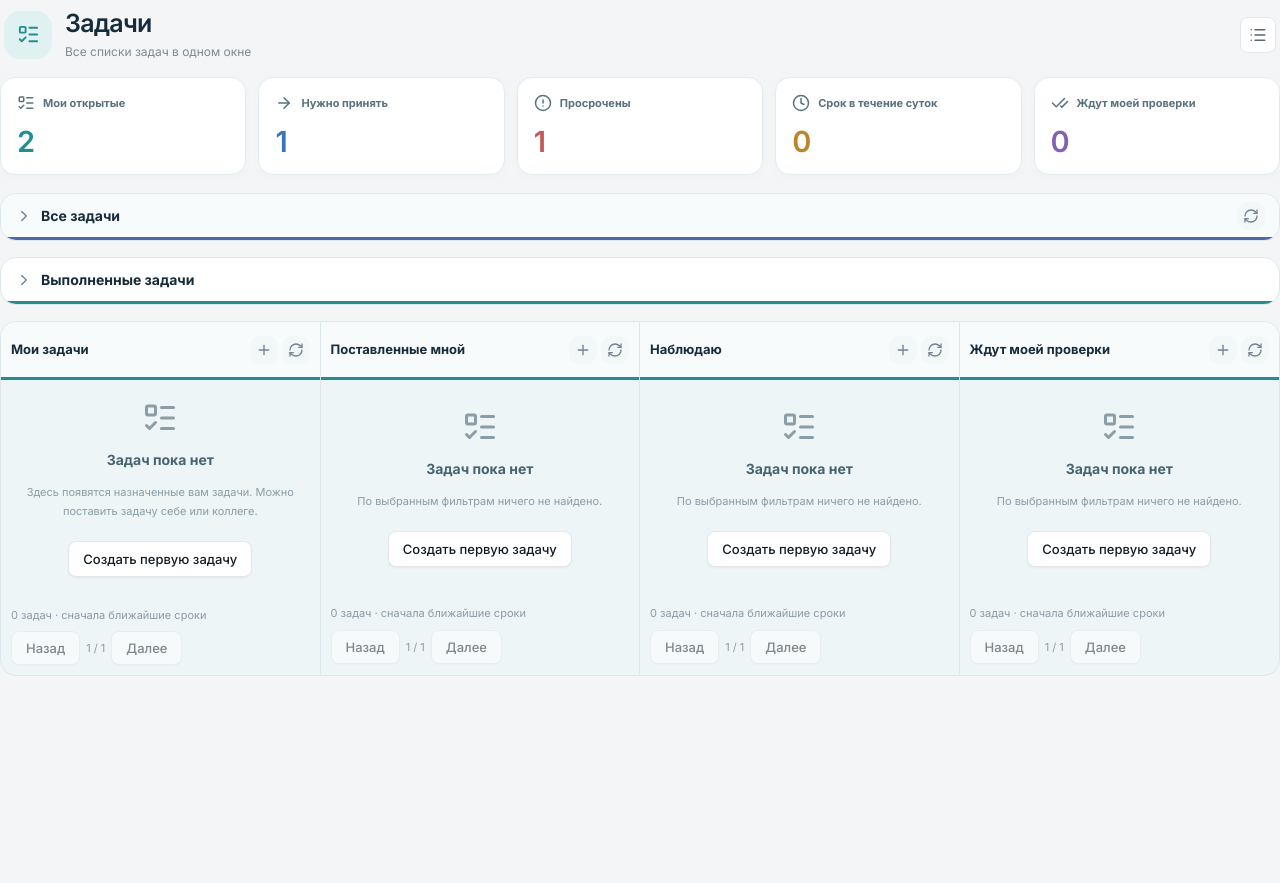
Test: personal lists show active tasks and completed lists load only when expanded
Click the button "Выполненные задачи". click: (105, 280)
box: [15,265,194,294]
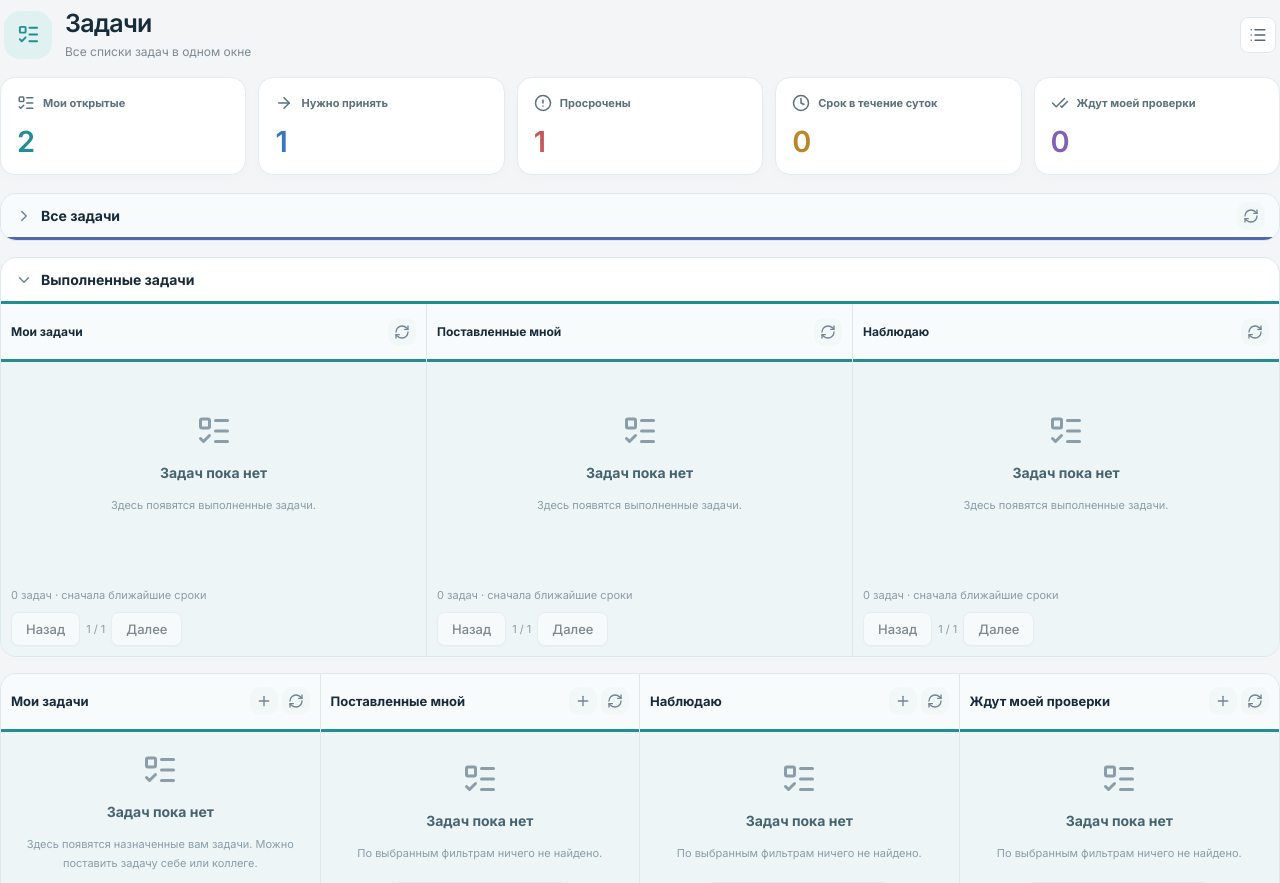
Expected: the 1st heading "Мои задачи" is shown, [11,323,83,341]
Expected: the 1st heading "Поставленные мной" is shown, [437,323,561,341]
Expected: the 1st heading "Наблюдаю" is shown, [863,323,929,341]
Click the button "Выполненные задачи". click: (105, 280)
box: [15,265,194,294]
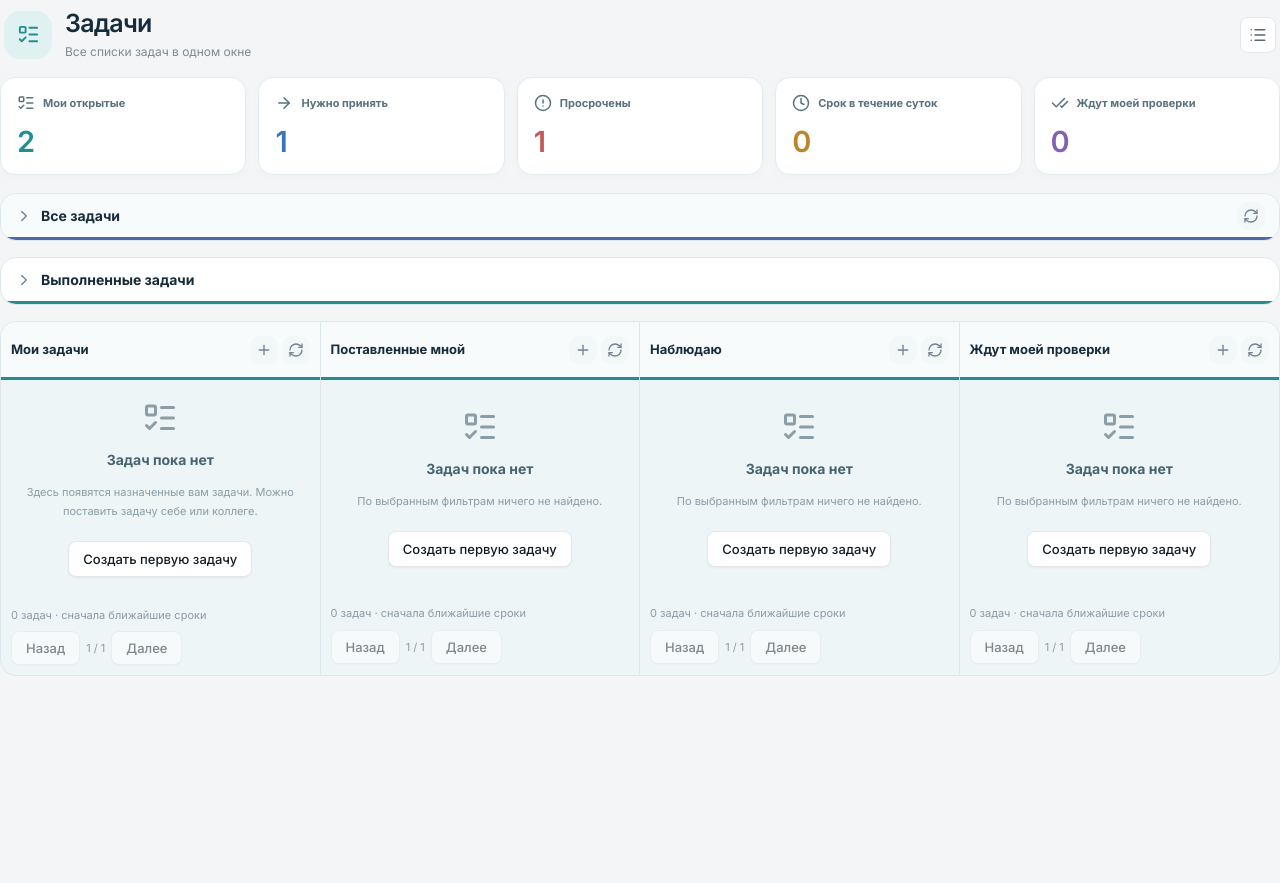
Expected: the button "Выполненные задачи" is collapsed, [15,265,194,294]
